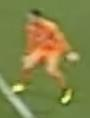goalkeeper: (6, 4, 88, 112)
